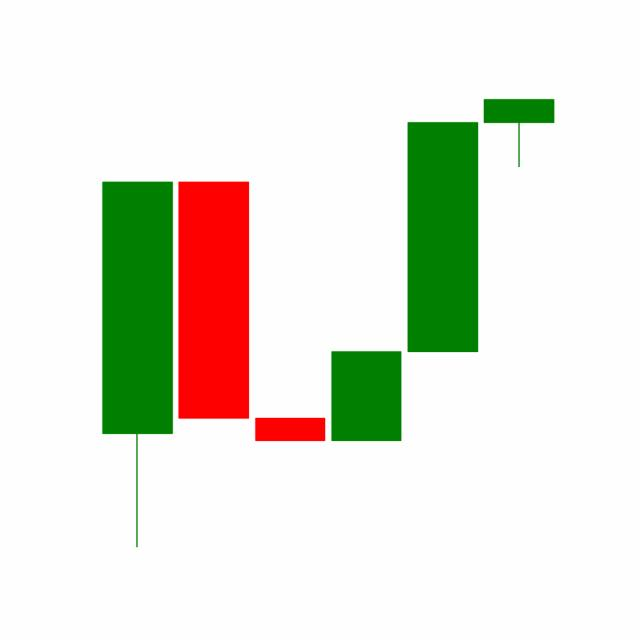Marubozu: (403, 119, 481, 354)
